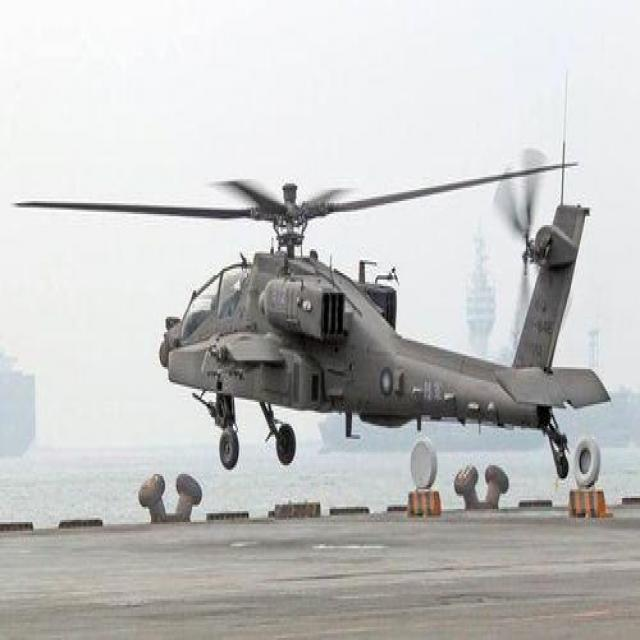MIL_HELO: (8, 158, 622, 482)
